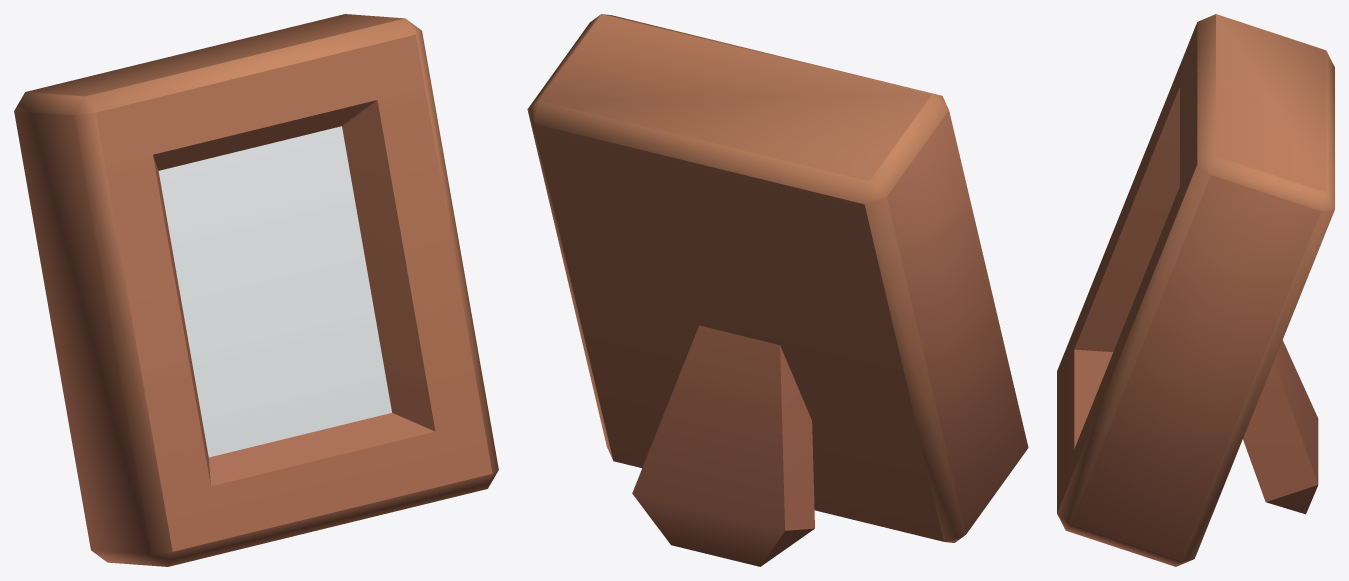
The model's file is pictureframe_standing_A.glb.
3 renders of one model, left to right at view 1: azimuth 30°, elevation 25°; view 2: azimuth 150°, elevation 25°; view 3: azimuth 270°, elevation 25°, orthographic. The views are drawn at different scales.
Parts seen in each view (by area): view 1: pictureframe_standing_A; view 2: pictureframe_standing_A; view 3: pictureframe_standing_A.
Boxes of the visible parts, x1,y1,x2,y2 form: pictureframe_standing_A: (14,14,498,566); pictureframe_standing_A: (527,14,1028,566); pictureframe_standing_A: (1057,14,1334,566).
Bounding box in the file's own units: 0.5 × 0.6185 × 0.3795.
Materials: 1 (1 with a texture image).
